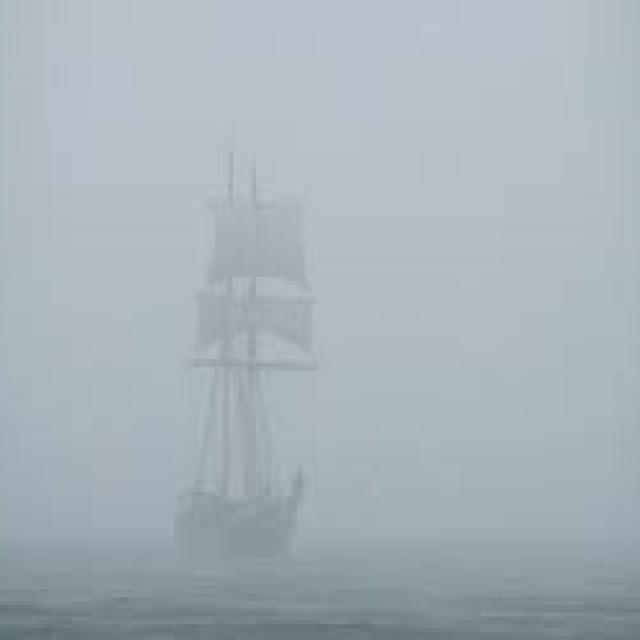fishing boat: (162, 145, 353, 565)
